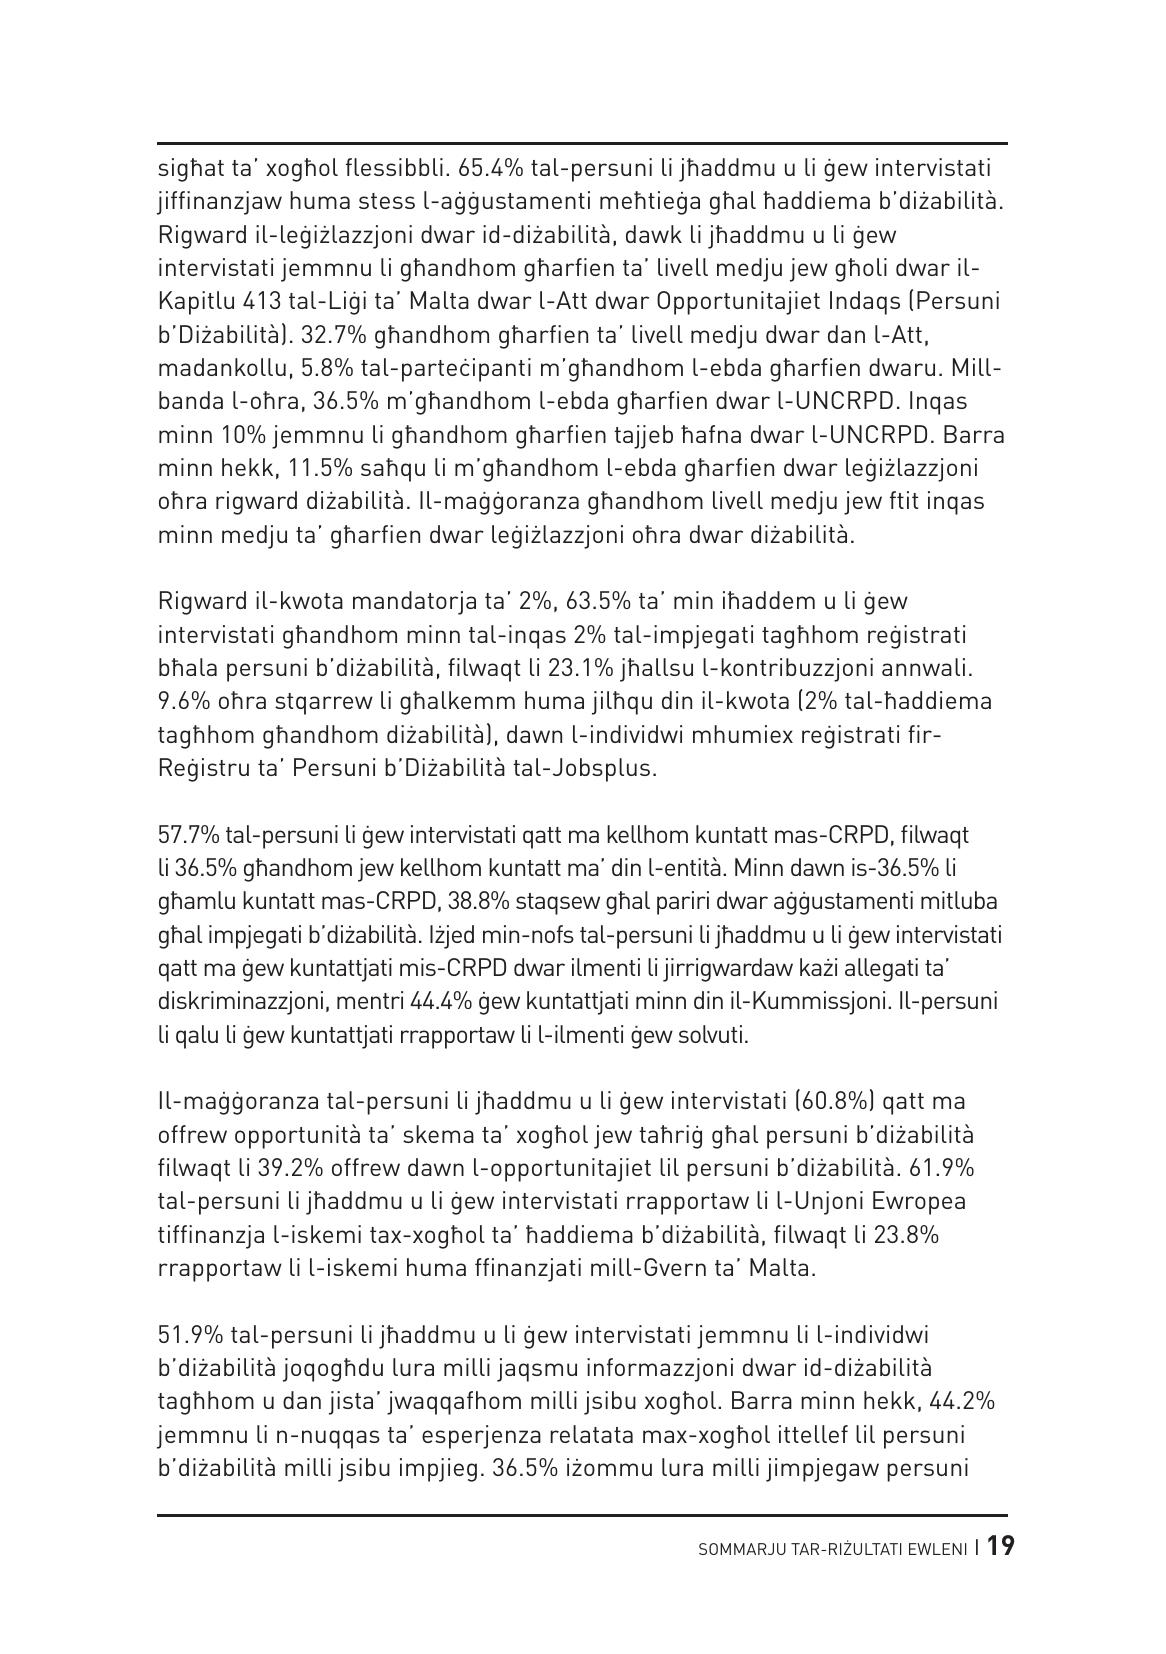text: (141, 150, 1039, 1496)
